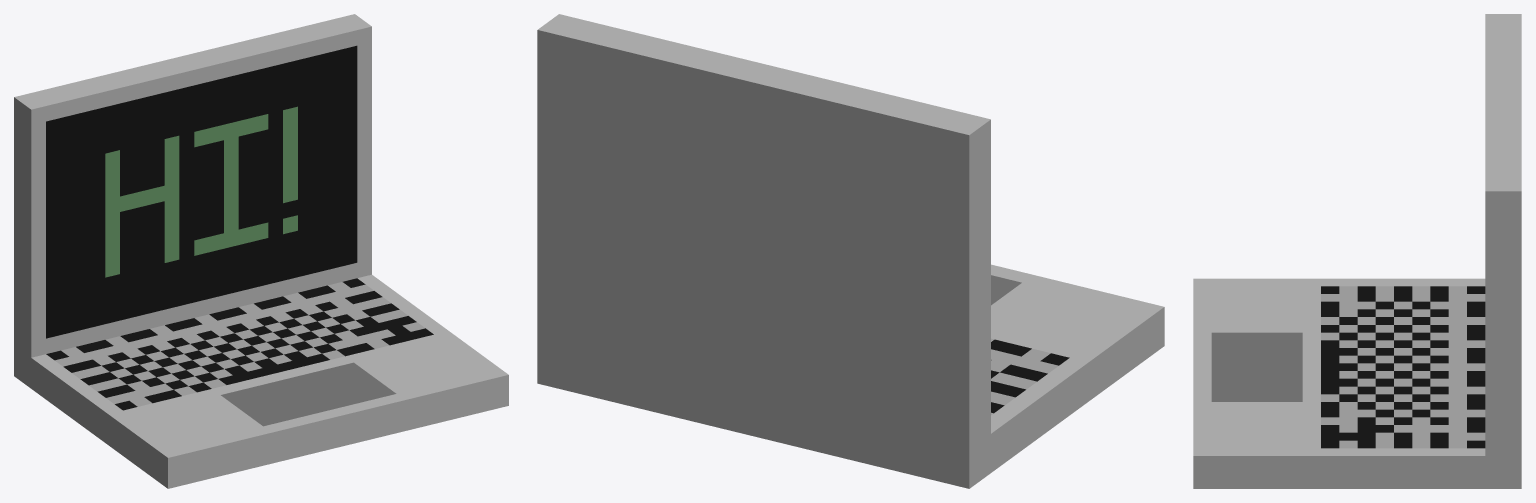
The model's file is LAPTOP.glb.
The picture shows the model from 3 angles, left to right: view 1: azimuth 30°, elevation 25°; view 2: azimuth 150°, elevation 25°; view 3: azimuth 270°, elevation 25°; orthographic projection. The views are drawn at different scales.
Visible parts, largest first — view 1: LAPTOP; view 2: LAPTOP; view 3: LAPTOP.
Part boxes in pixels (x1=…): LAPTOP: x1=14, y1=14, x2=508, y2=488; LAPTOP: x1=537, y1=14, x2=1164, y2=488; LAPTOP: x1=1193, y1=14, x2=1521, y2=488.
Size of the model in its own units: 2.3 by 1.8 by 1.8.
1 material, 1 textured.
